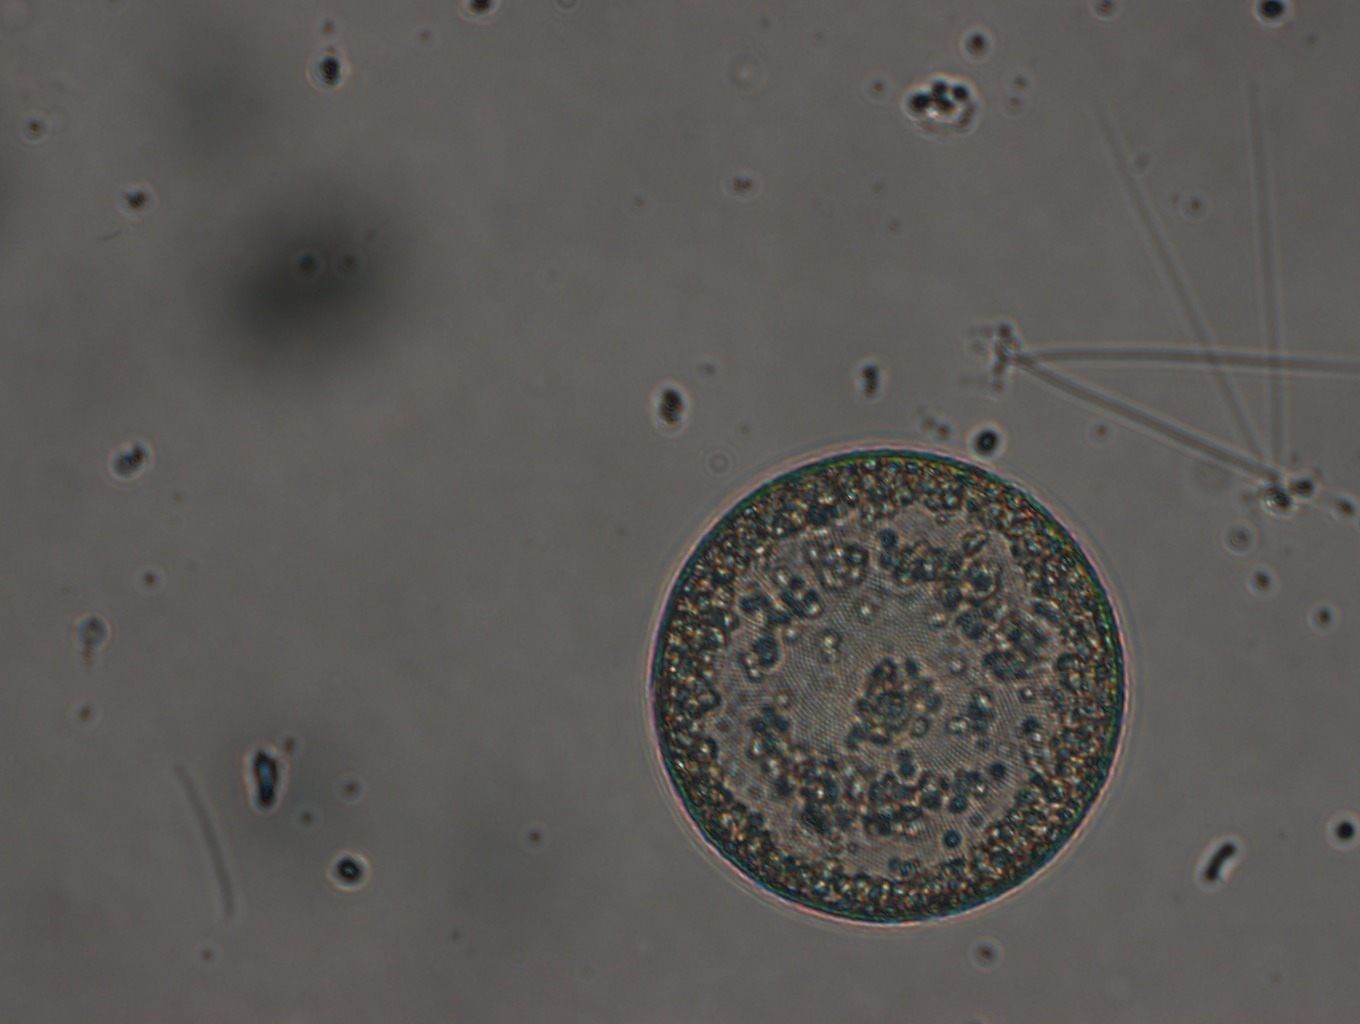coscinodiscus: (647, 437, 1132, 930)
